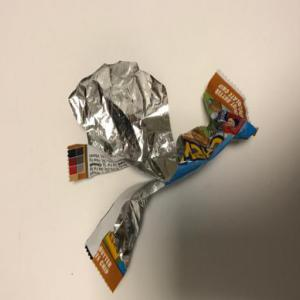Trash: (67, 60, 260, 294)
